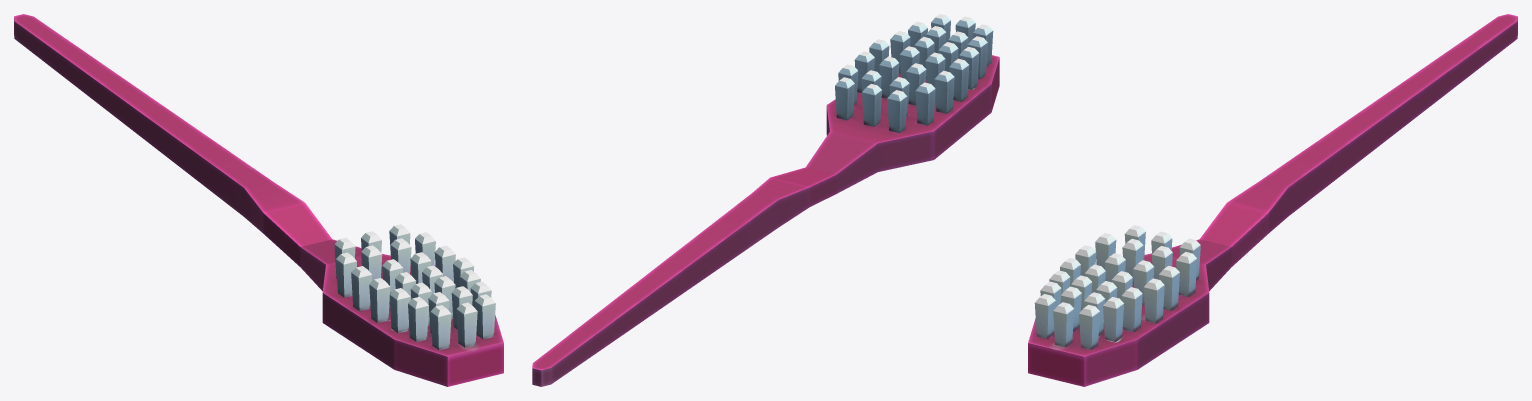
Rendered from ray_tootbrushv2.fbx.
3 views of the same model, side by side, from view 1: azimuth 30°, elevation 25°; view 2: azimuth 150°, elevation 25°; view 3: azimuth 330°, elevation 25° (orthographic). The views are drawn at different scales.
Parts seen in each view (by area): view 1: polySurface1; view 2: polySurface1; view 3: polySurface1.
Boxes of the visible parts, x1,y1,x2,y2 form: polySurface1: (14,14,503,386); polySurface1: (532,14,999,386); polySurface1: (1028,14,1517,386).
Size of the model in its own units: 0.0157 by 0.00923 by 0.1104.
1 material, 1 textured.
